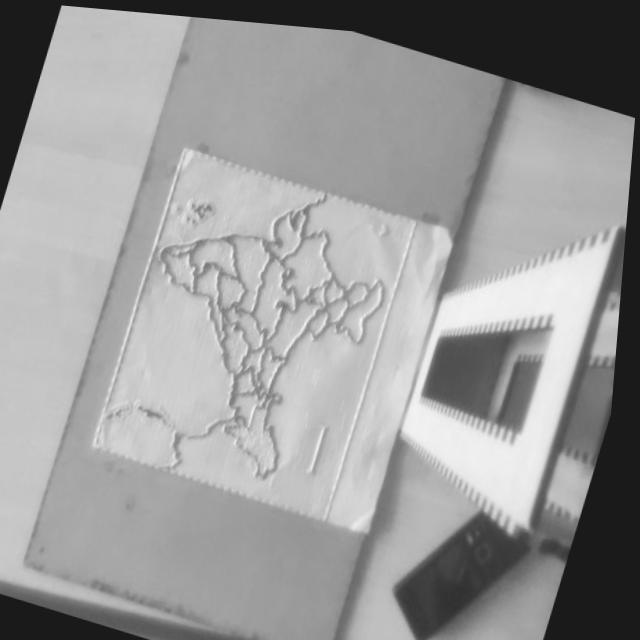map: (91, 148, 417, 521)
